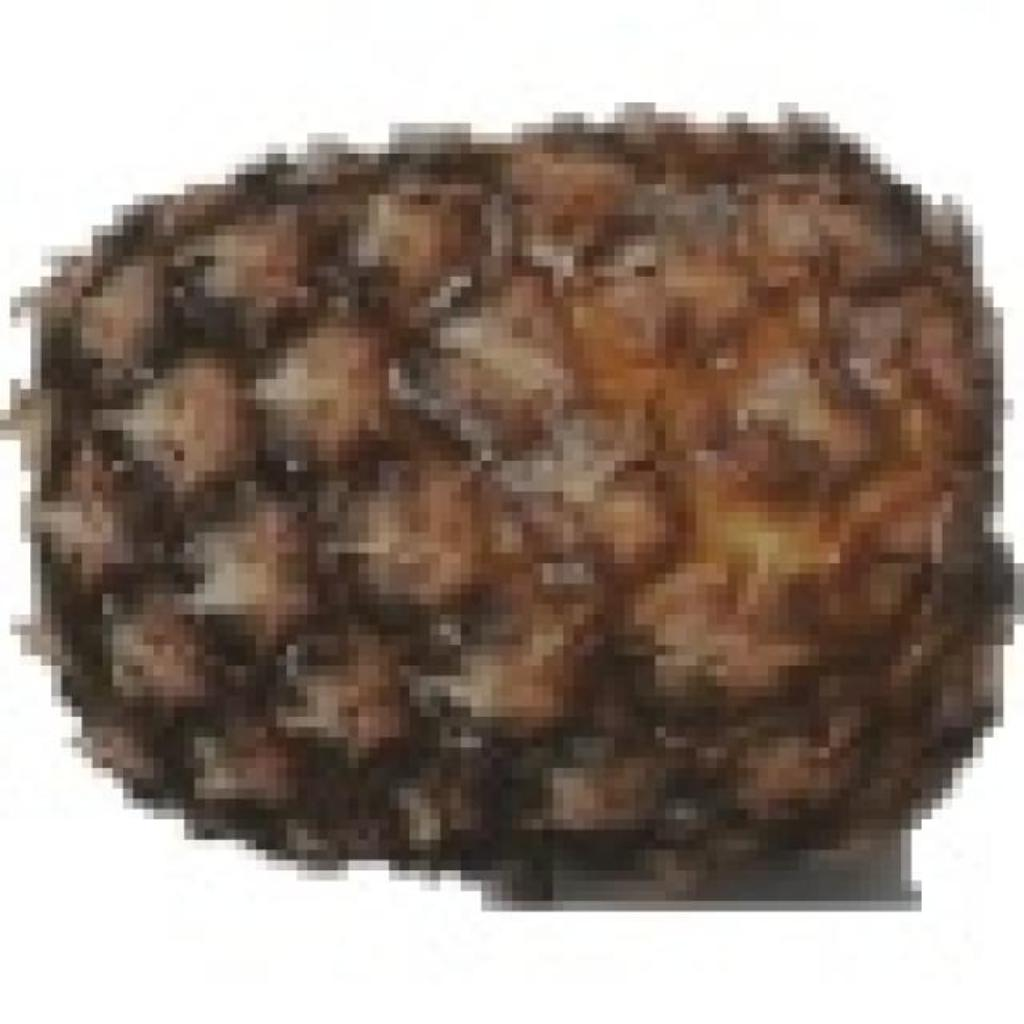pineapple: (20, 102, 983, 881)
